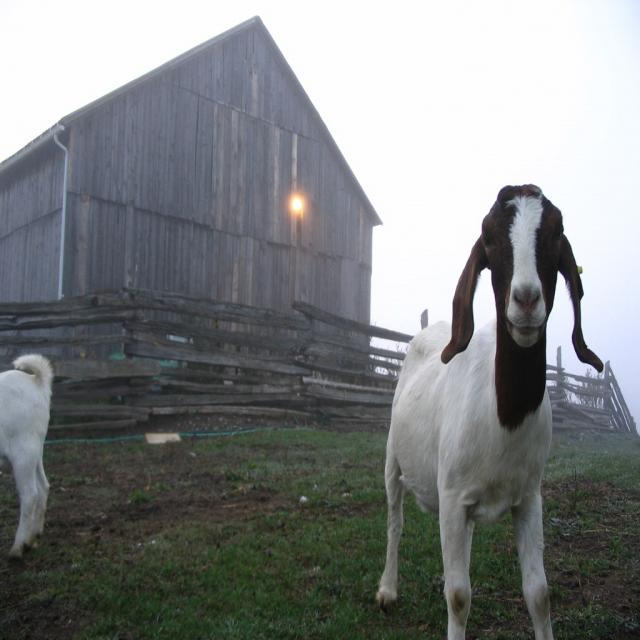Goat: (381, 183, 594, 640), (0, 350, 53, 553)
